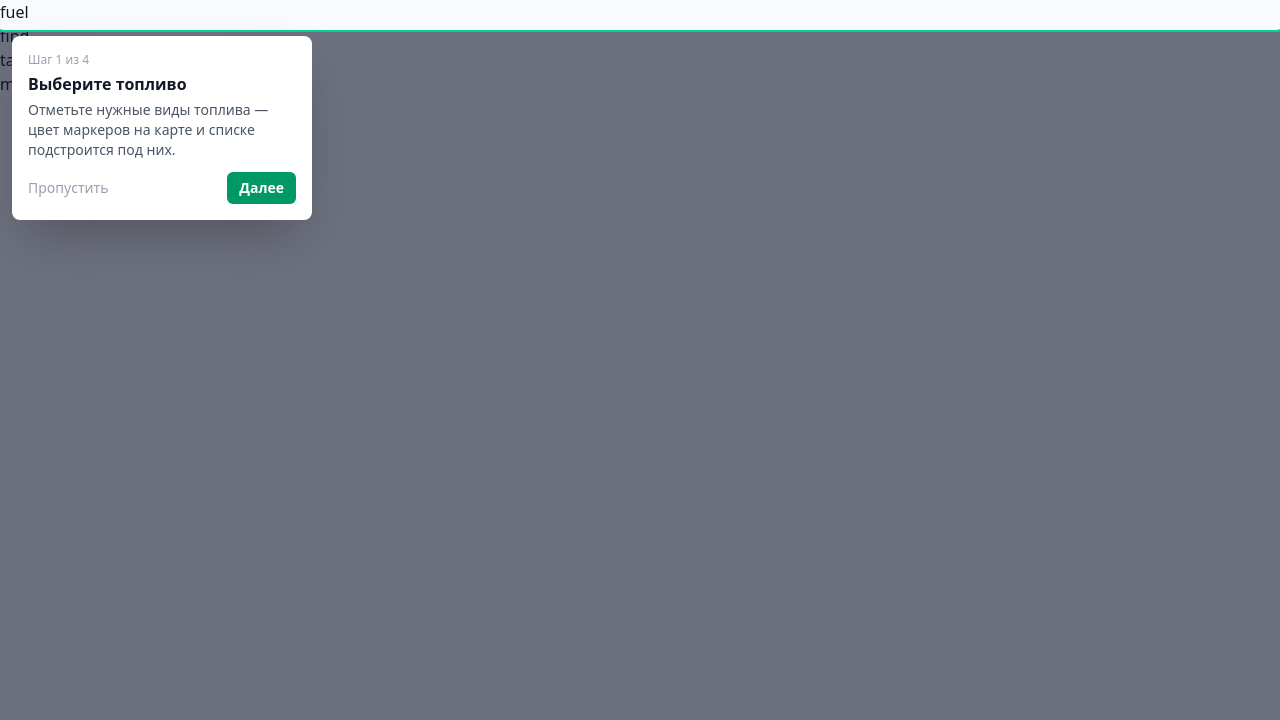
Scenario: OnboardingTour (R101) › «Далее» листает шаги, последний шаг завершает тур
Click the button "Далее": (262, 188) [227, 172, 296, 204]
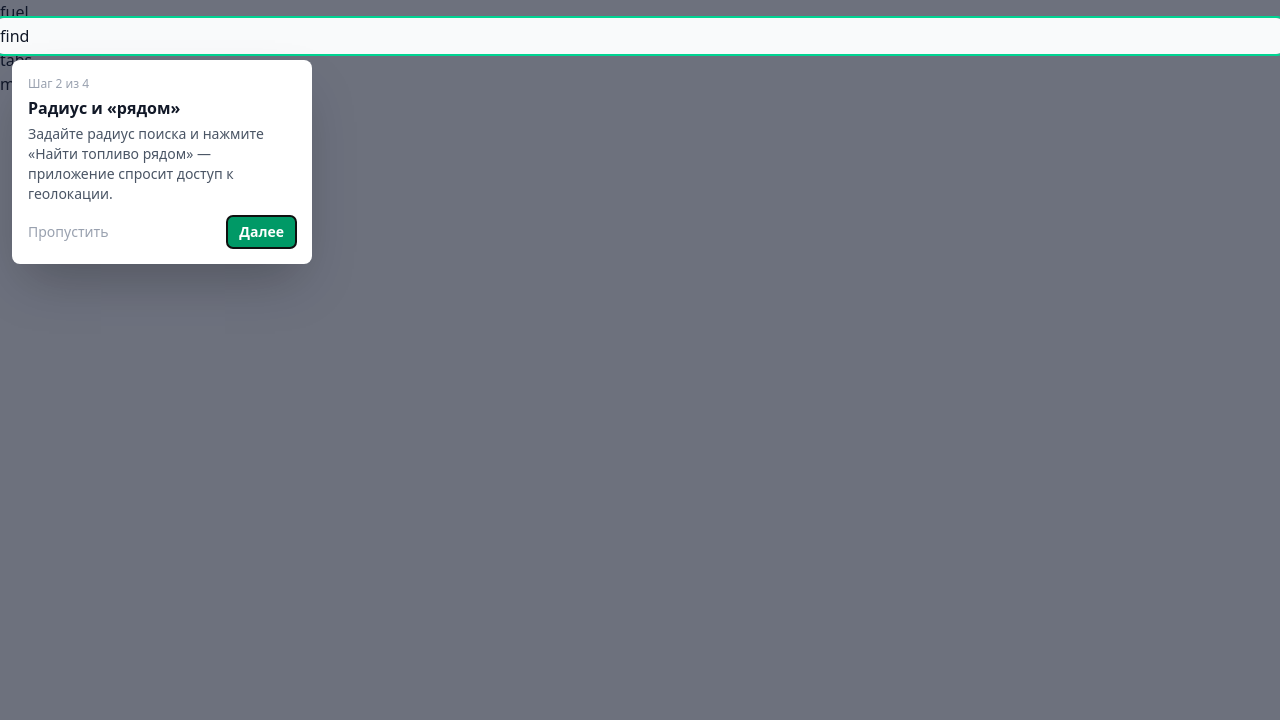
Click the button "Далее": (262, 232) [227, 216, 296, 248]
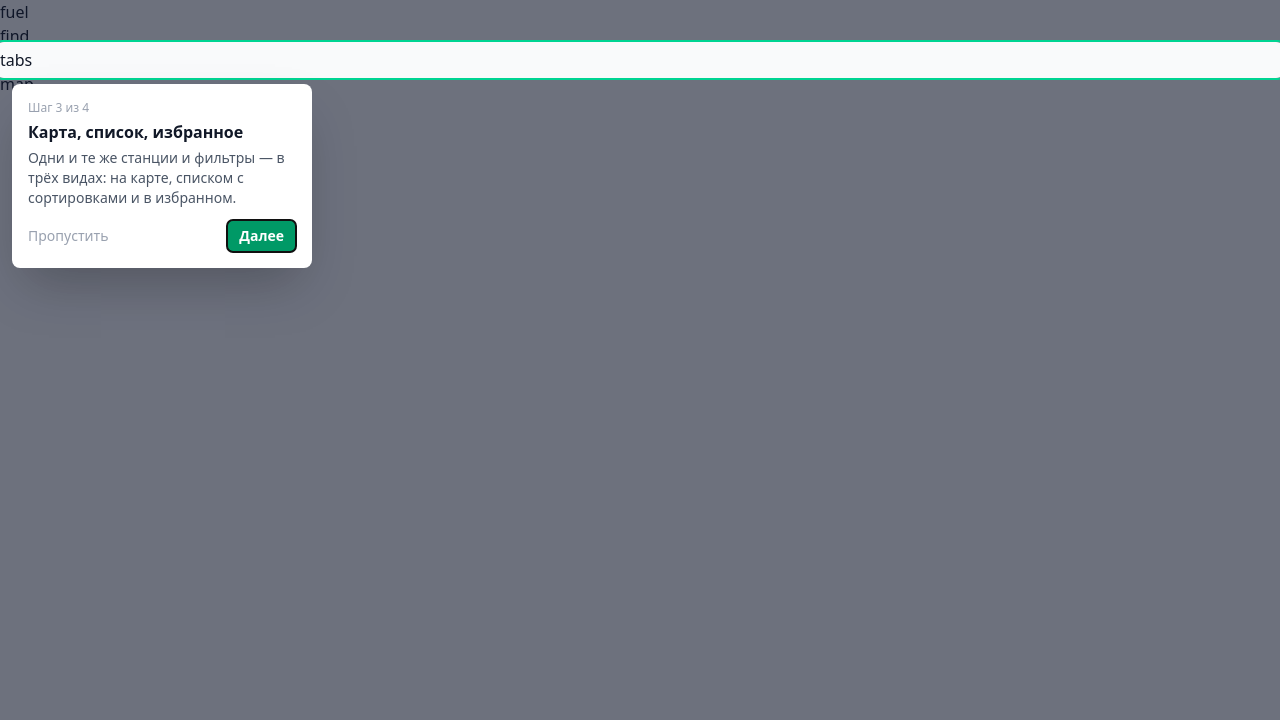
Click the button "Далее": (262, 236) [227, 220, 296, 252]
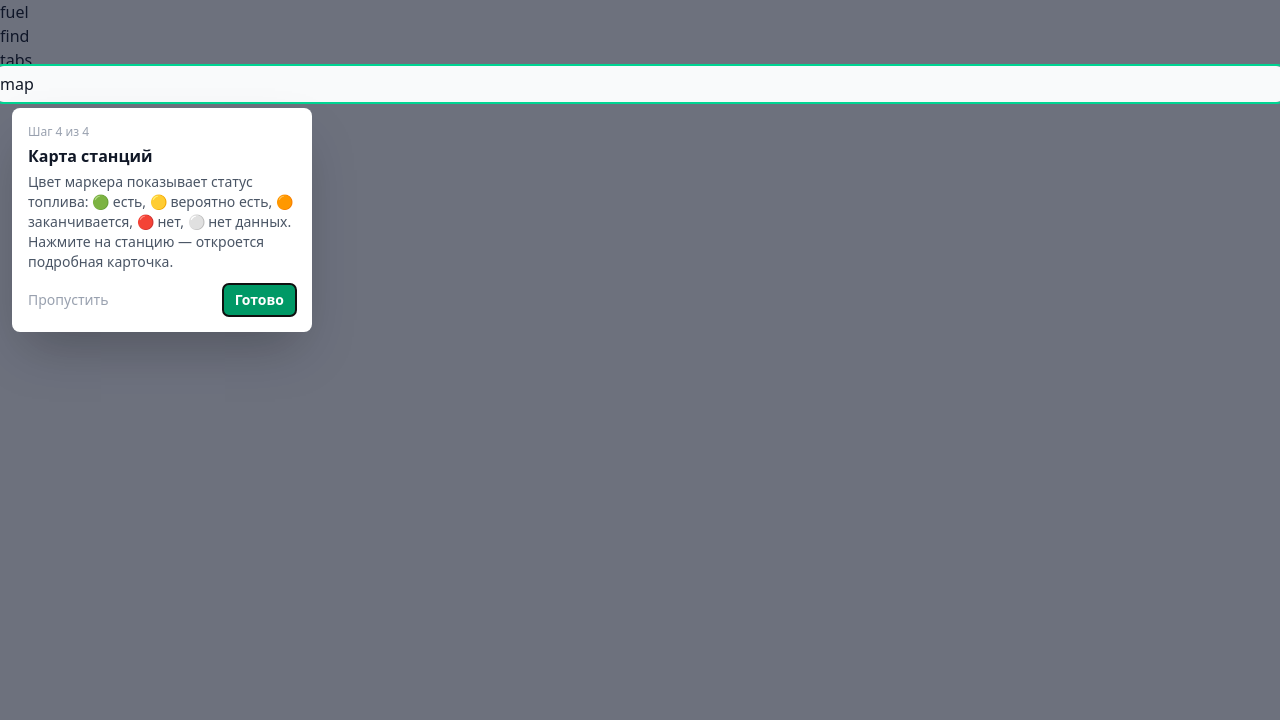
Expected: the text "Шаг 4 из 4" is shown, [28, 123, 89, 140]
Click the button "Готово": (259, 300) [223, 284, 296, 316]
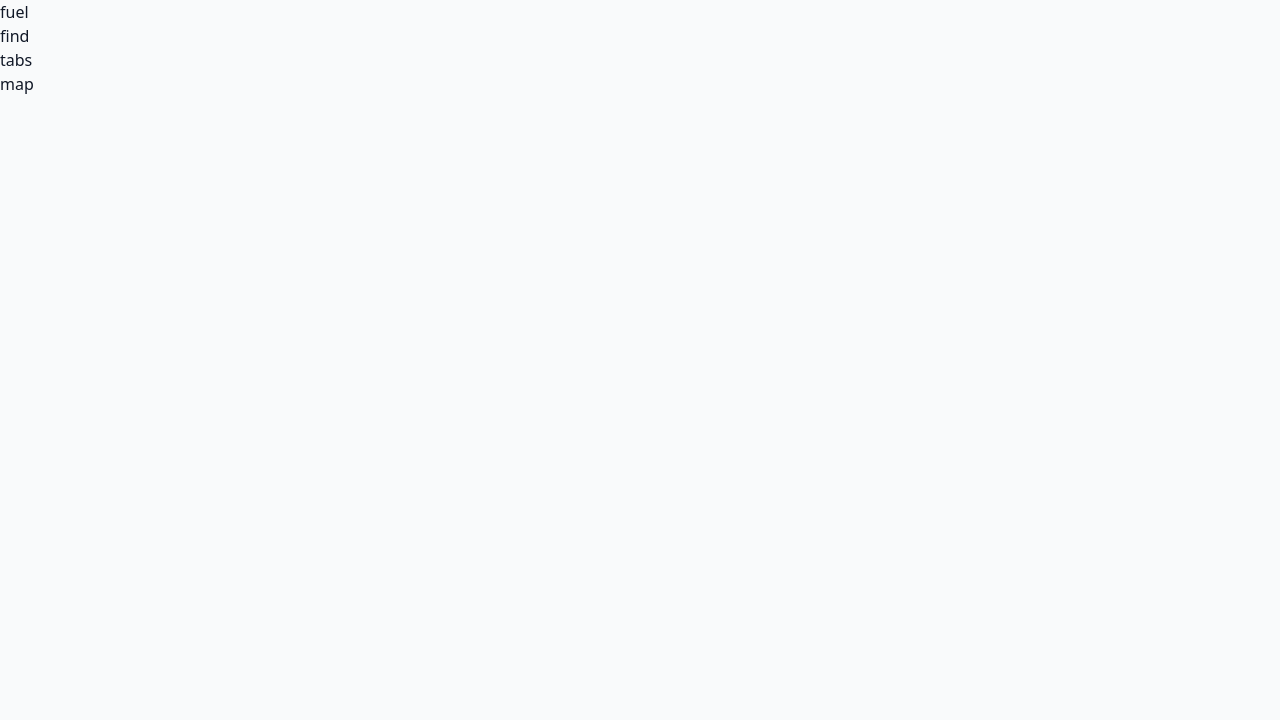
Expected: the dialog is gone
